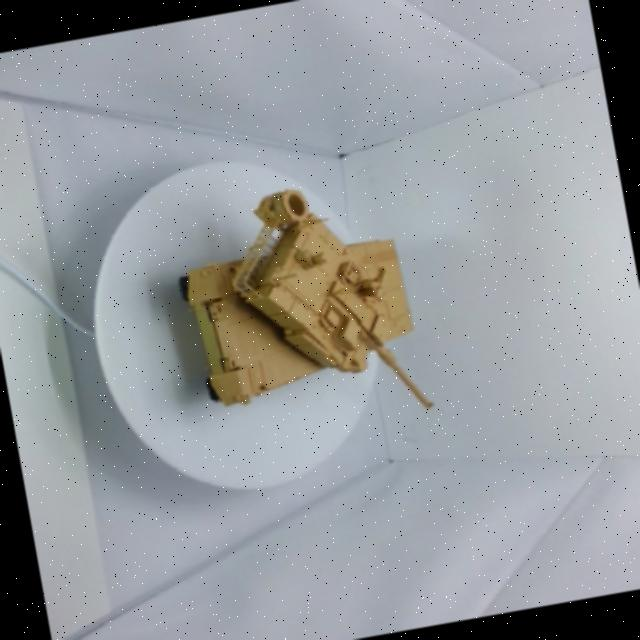korea tank: (140, 138, 488, 513)
